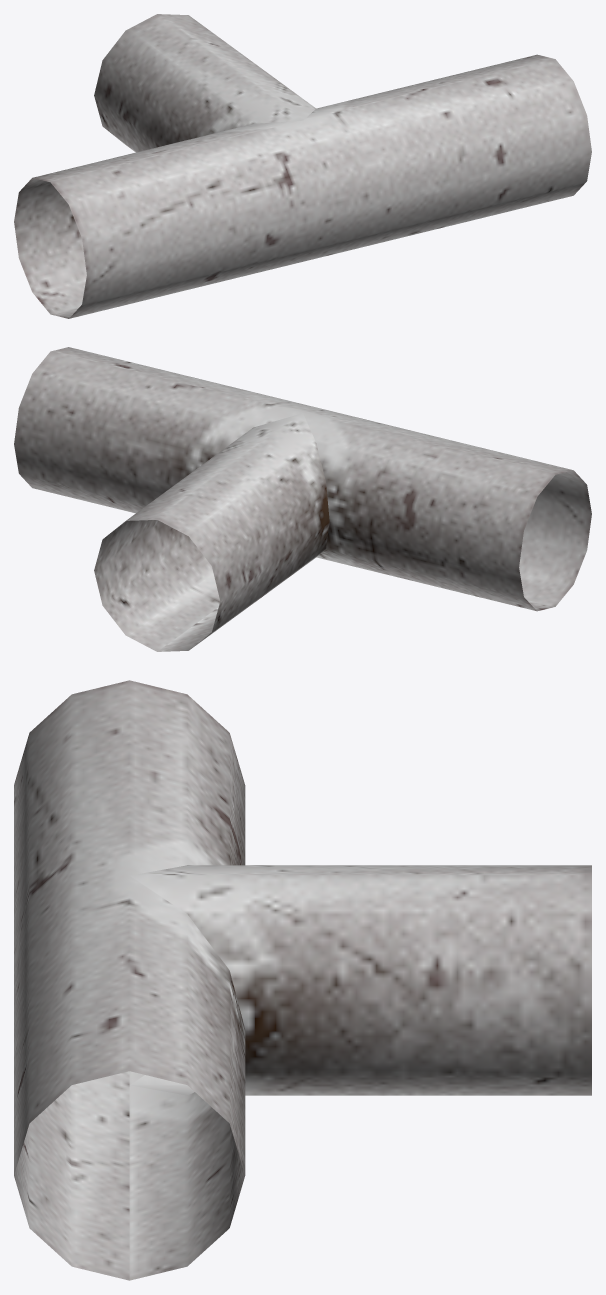
Rendered from pipe_3Line.fbx.
3 views of the same model, one above another, from view 1: azimuth 30°, elevation 25°; view 2: azimuth 150°, elevation 25°; view 3: azimuth 270°, elevation 25° (orthographic). The views are drawn at different scales.
Visible parts, largest first — view 1: pipe_3L; view 2: pipe_3L; view 3: pipe_3L.
Boxes of the visible parts, x1,y1,x2,y2 form: pipe_3L: (14,14,591,318); pipe_3L: (14,347,591,651); pipe_3L: (14,680,591,1280).
Bounding box in the file's own units: 40 × 10 × 25.
